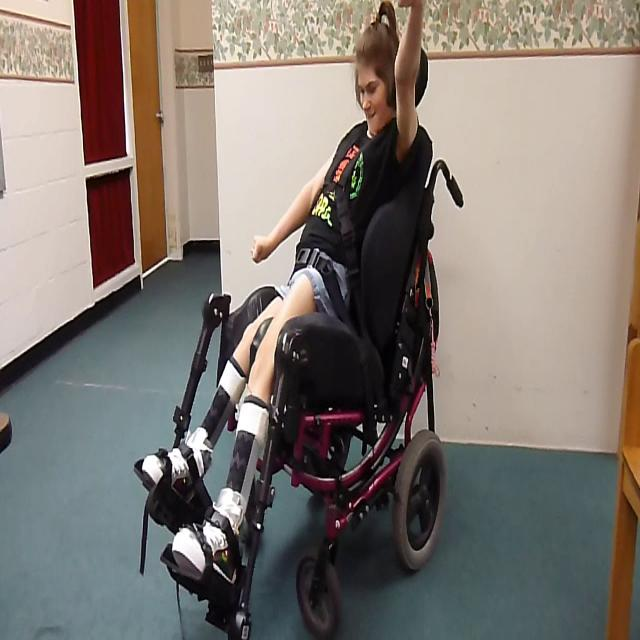wheelchairs: (138, 180, 443, 632)
